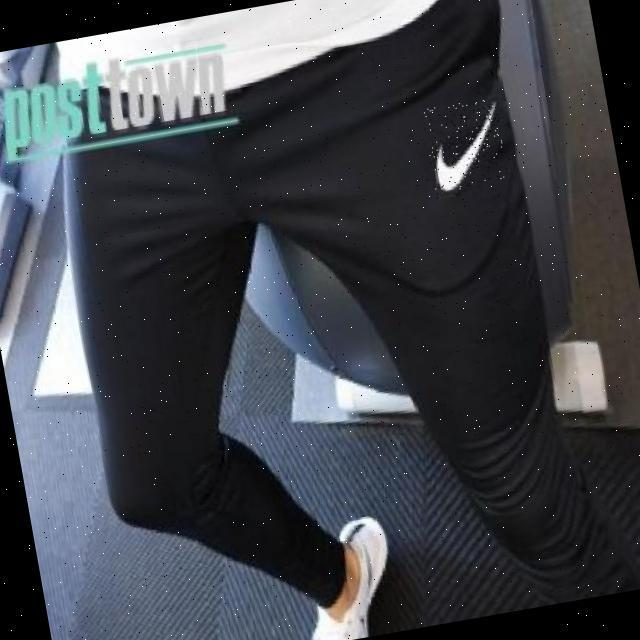Nike: (422, 97, 509, 193)
